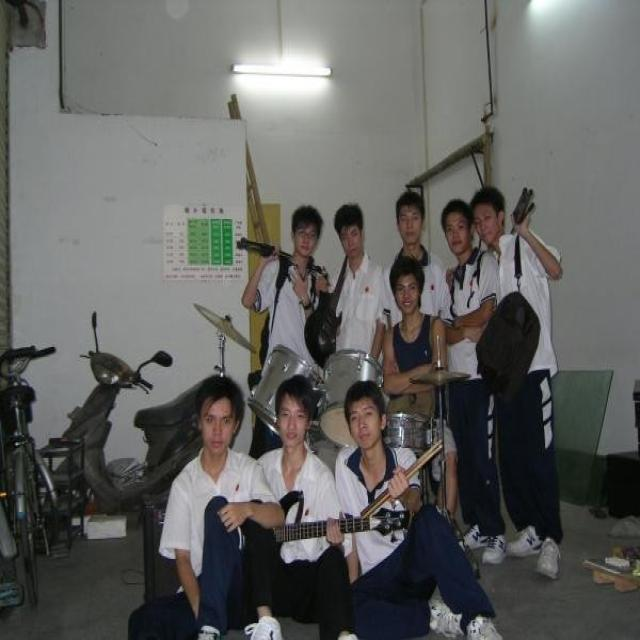drums: (252, 348, 458, 465)
guitar: (251, 496, 405, 562), (304, 246, 353, 368)
